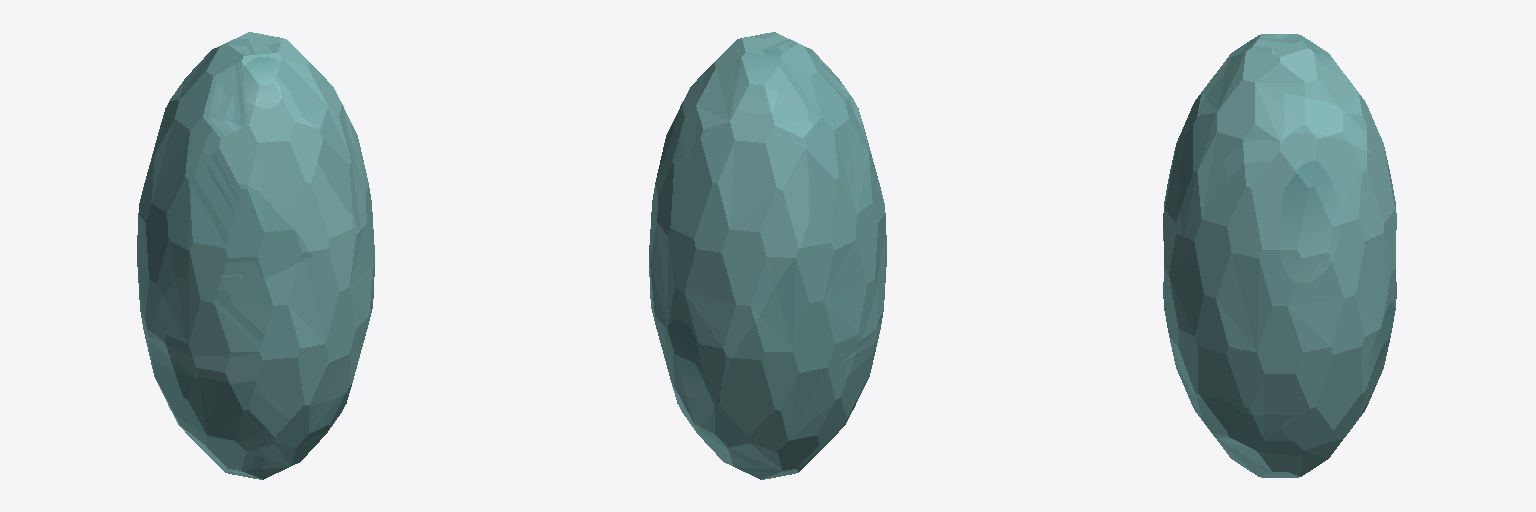
3 renders of one model, left to right at view 1: azimuth 30°, elevation 25°; view 2: azimuth 150°, elevation 25°; view 3: azimuth 270°, elevation 25°, orthographic.
Visible parts, largest first — view 1: Icosphere.002; view 2: Icosphere.002; view 3: Icosphere.002.
Part boxes in pixels (x1,y1,x2,y2): Icosphere.002: (137, 32, 374, 479); Icosphere.002: (649, 32, 886, 479); Icosphere.002: (1163, 34, 1396, 477).
Bounding box in the file's own units: 0.9511 × 1.86 × 0.9317.
Materials: 1 (1 with a texture image).